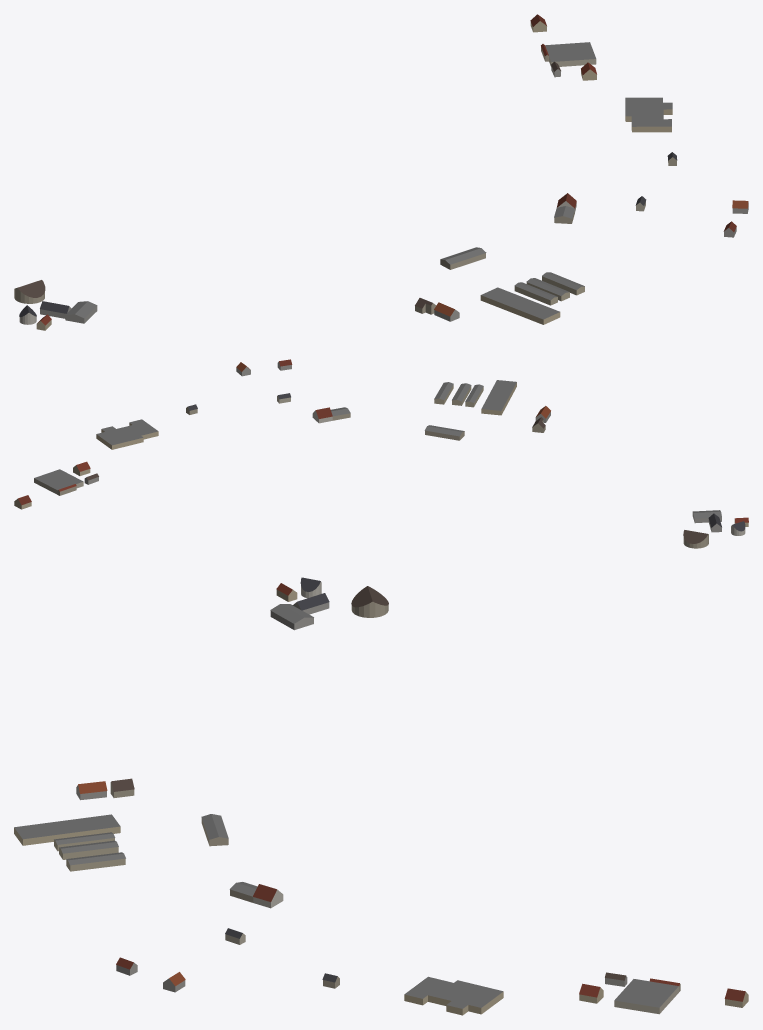
3 renders of one model, top to bottom at view 1: azimuth 30°, elevation 25°; view 2: azimuth 150°, elevation 25°; view 3: azimuth 270°, elevation 25°, orthographic. The views are drawn at different scales.
Parts seen in each view (by area): view 1: buildings; view 2: buildings; view 3: buildings.
Boxes of the visible parts, <box> form: buildings: <box>14,14,748,330</box>; buildings: <box>14,359,748,548</box>; buildings: <box>14,577,748,1015</box>.
Size of the model in its own units: 821 by 25.79 by 609.
